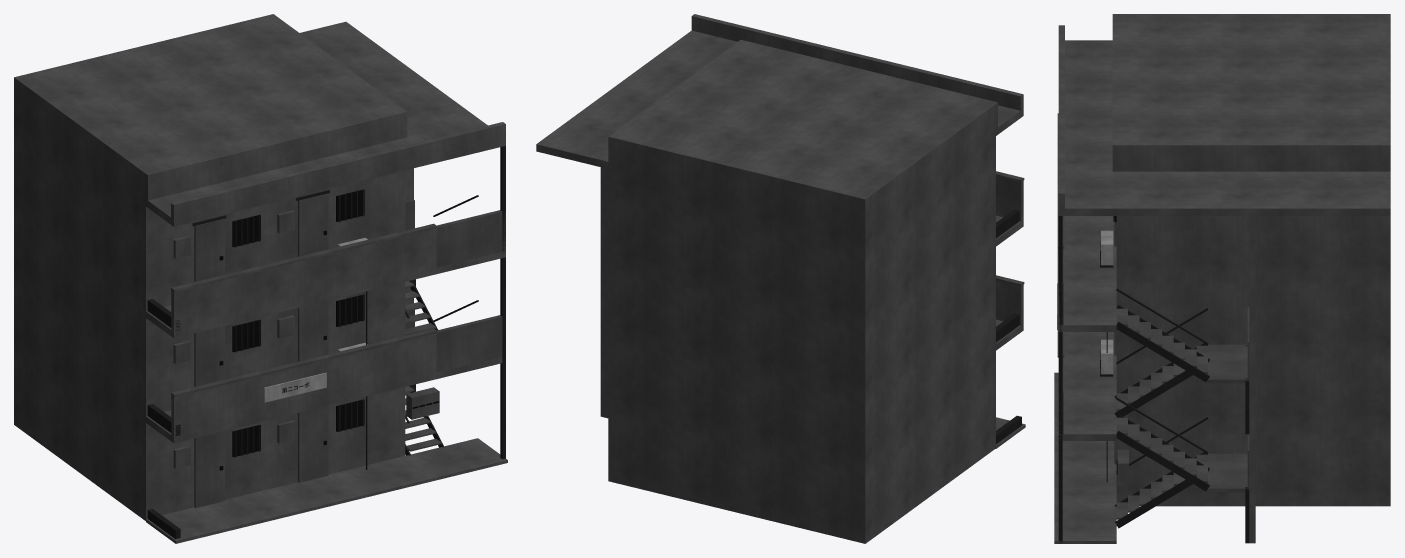
The model's file is facade_apartment.glb.
The picture shows the model from 3 angles, left to right: view 1: azimuth 30°, elevation 25°; view 2: azimuth 150°, elevation 25°; view 3: azimuth 270°, elevation 25°; orthographic projection. The views are drawn at different scales.
Parts seen in each view (by area): view 1: facade_apartment; view 2: facade_apartment; view 3: facade_apartment.
Part boxes in pixels (x1,y1,x2,y2): facade_apartment: [14, 14, 507, 543]; facade_apartment: [536, 14, 1025, 543]; facade_apartment: [1054, 14, 1390, 543].
Size of the model in its own units: 9.62 by 9.68 by 8.1.
6 materials, 6 textured.
